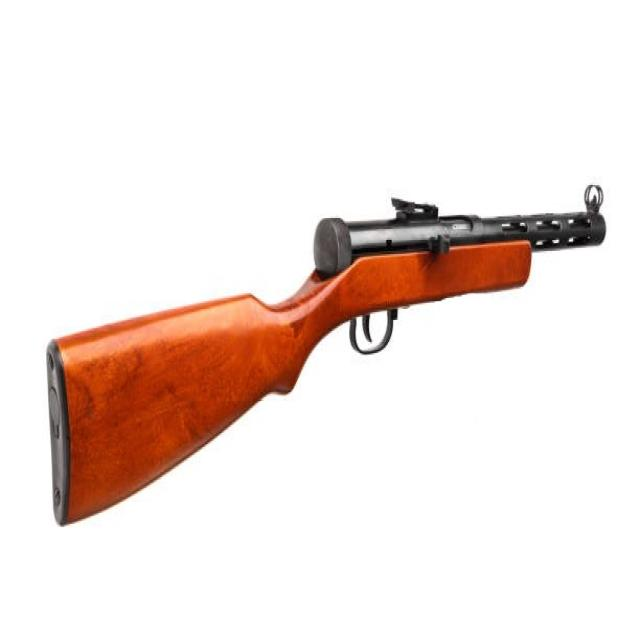rifle: (37, 167, 608, 542)
